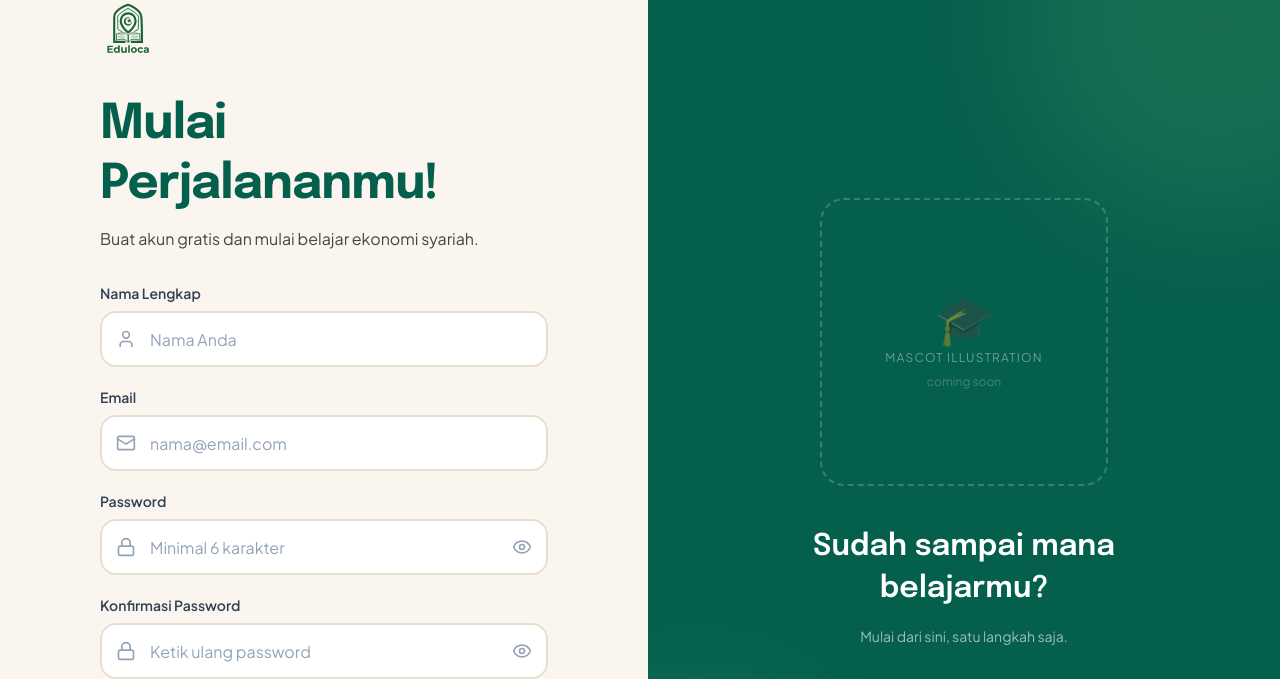
F1 — Autentikasi › TC-F.02: Register dengan email yang sudah terdaftar
Type "existing@test.com" into the field labelled "Email" at (324,443), box [100, 415, 548, 471]
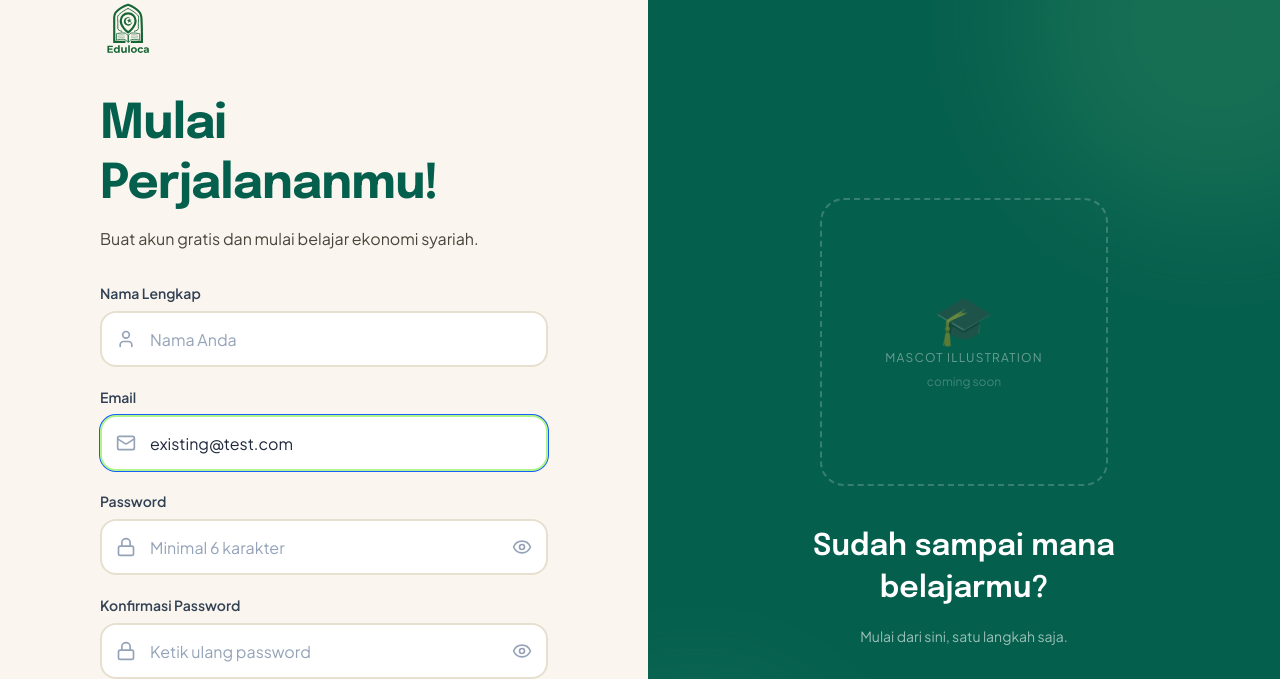
Type "password123" into the password field labelled "Password" at (324,547), box [100, 519, 548, 575]
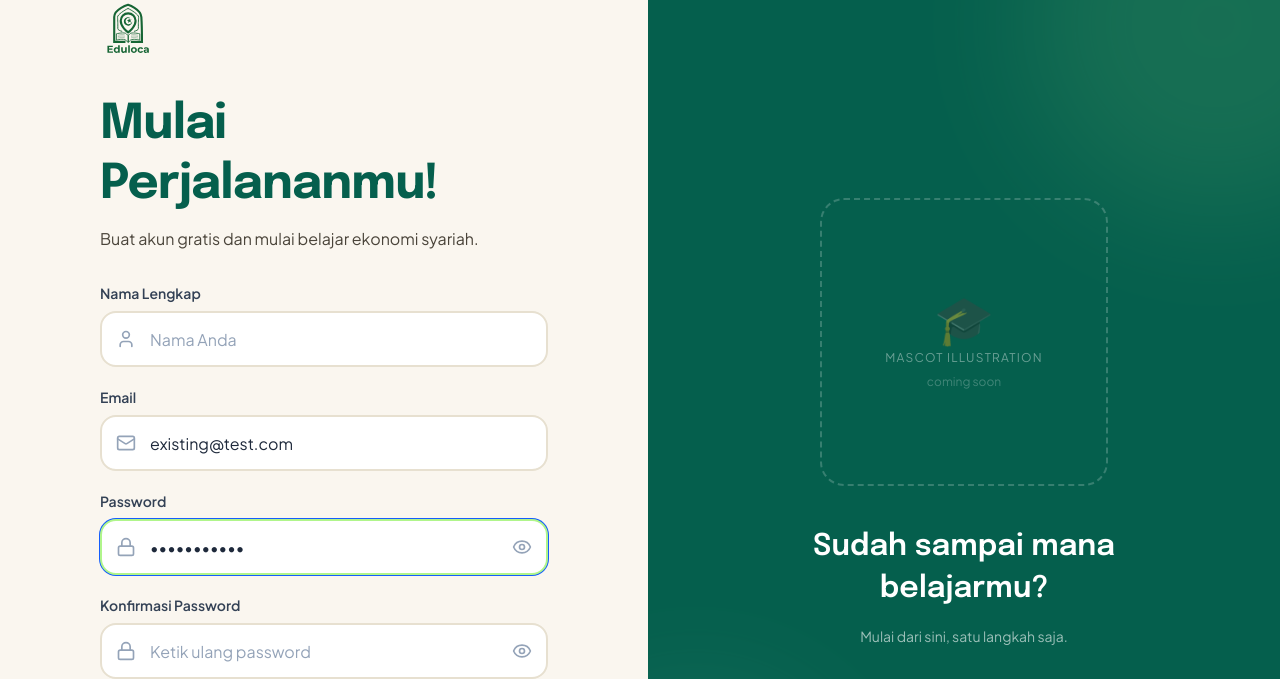
Type "password123" into the password field labelled "Konfirmasi Password" at (324,651), box [100, 623, 548, 678]
(page scrolled)
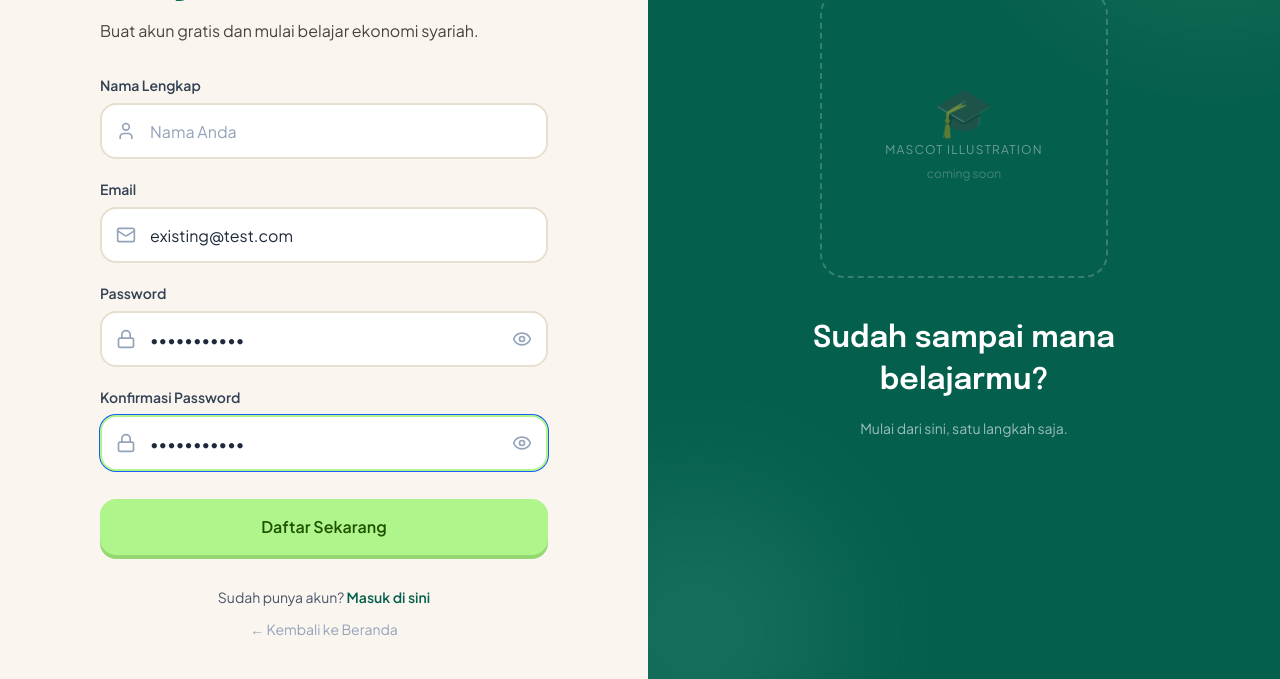
Click the button "Daftar Sekarang" at (324,527), box [100, 499, 548, 555]
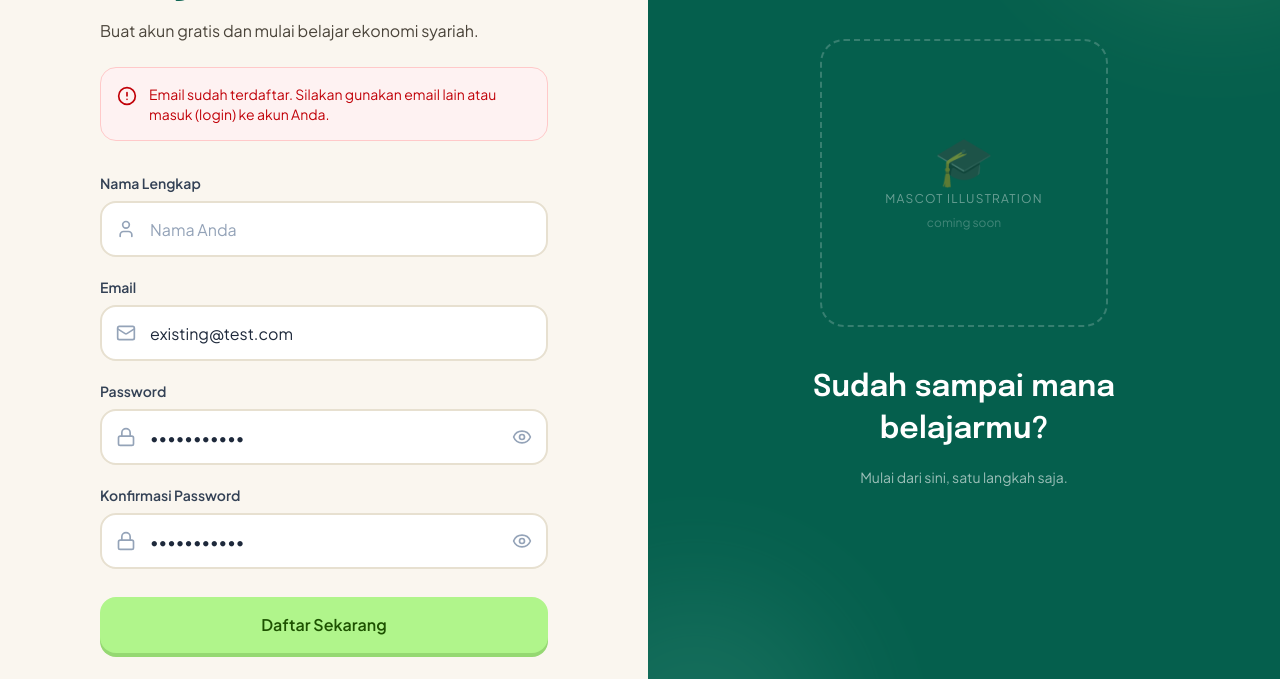
Expected: the text "Email sudah terdaftar" is shown, [149, 85, 496, 123]
